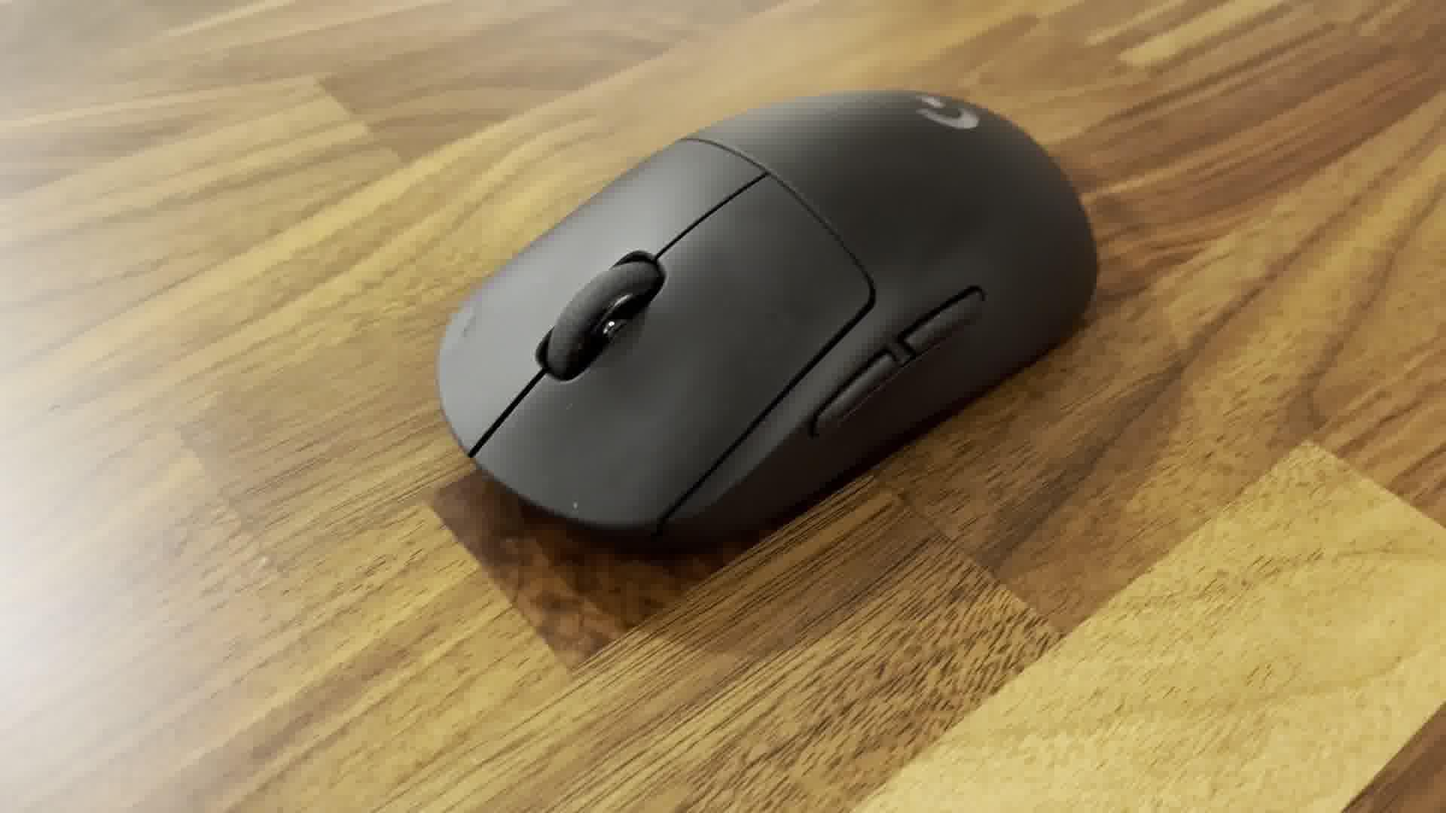logicool: (433, 80, 1103, 550)
